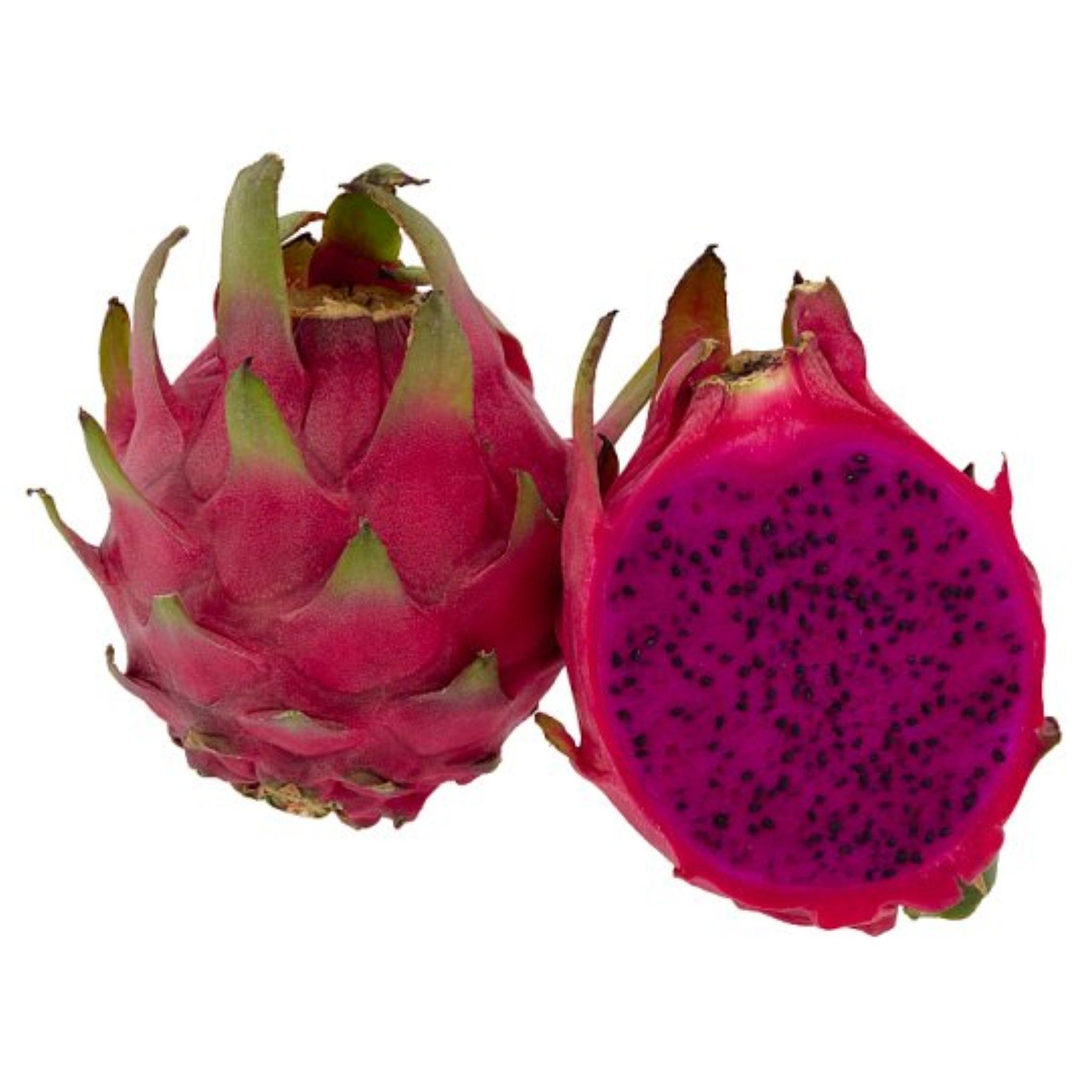dragon-fruit: (556, 381, 1050, 916), (99, 310, 570, 833)
